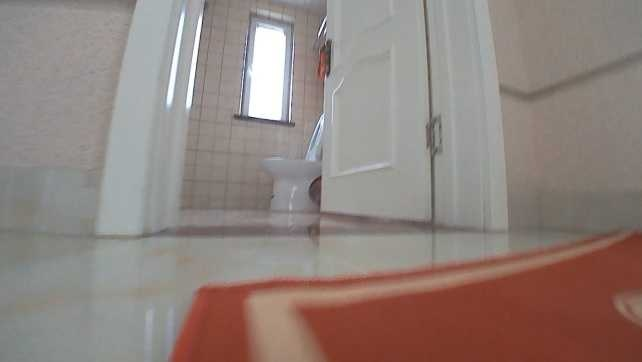blanket: (163, 223, 641, 361)
door_anno: (319, 0, 508, 230)
toilet: (258, 112, 325, 210)
